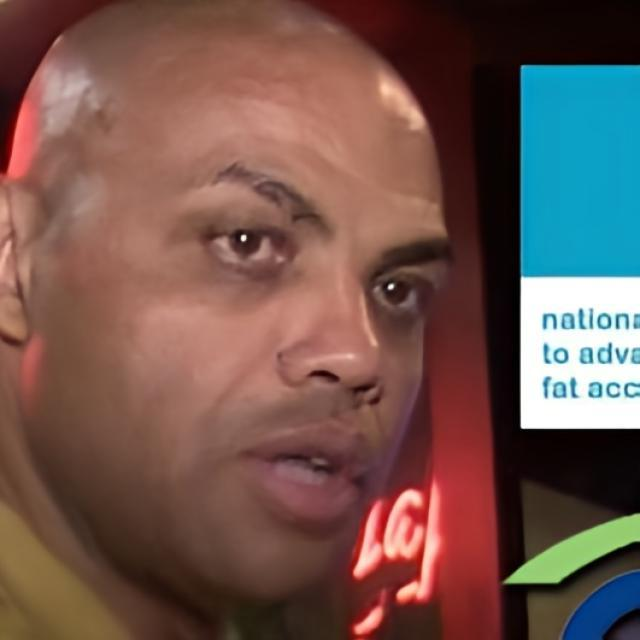surprise: (35, 0, 457, 607)
